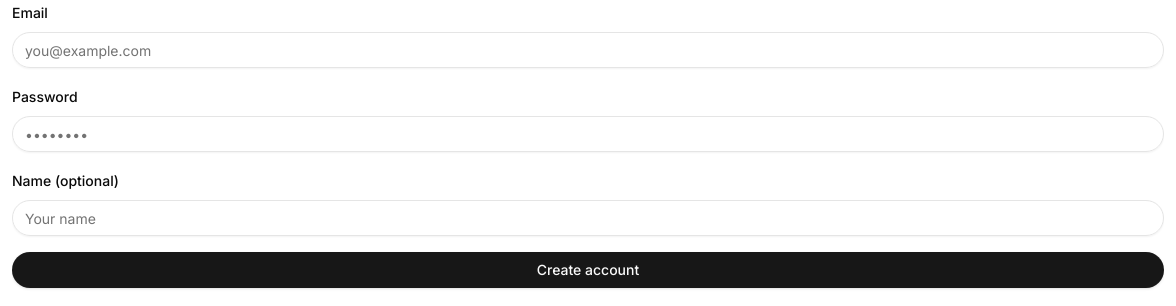
SignupForm › shows loading state during submission
The image size is (1176, 306).
Type "test@example.com" into the field labelled "Email".
click(588, 50); type("test@example.com")  # box left=12, top=32, right=1164, bottom=68
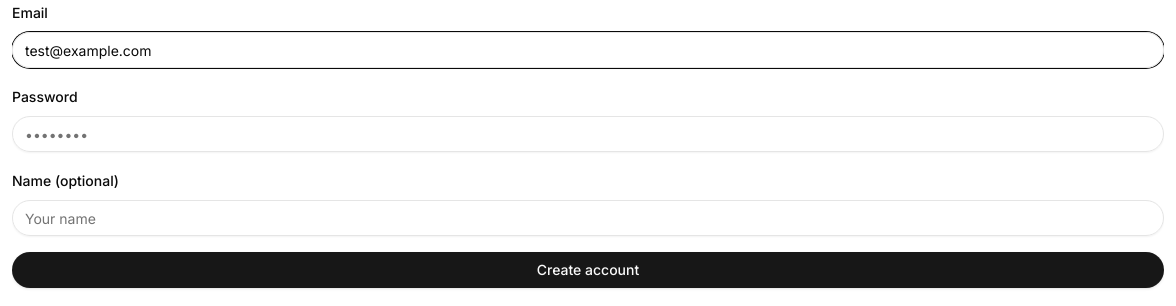
Type "password123" into the password field labelled "Password".
click(588, 134); type("password123")  # box left=12, top=116, right=1164, bottom=152
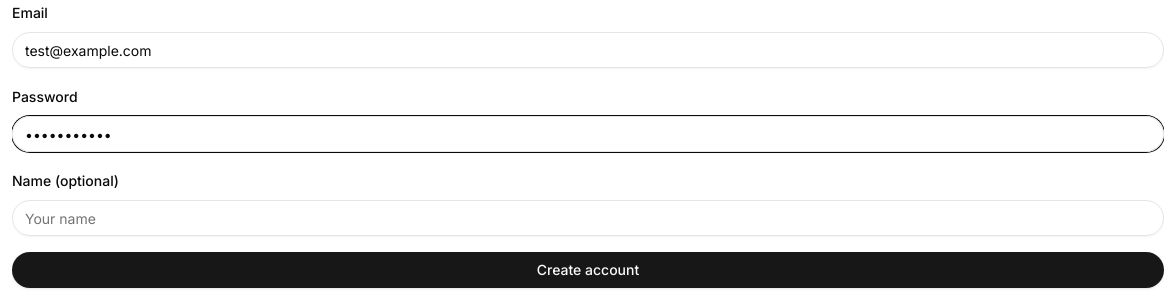
Click the button "Create account".
click(588, 270)  # box left=12, top=252, right=1164, bottom=288
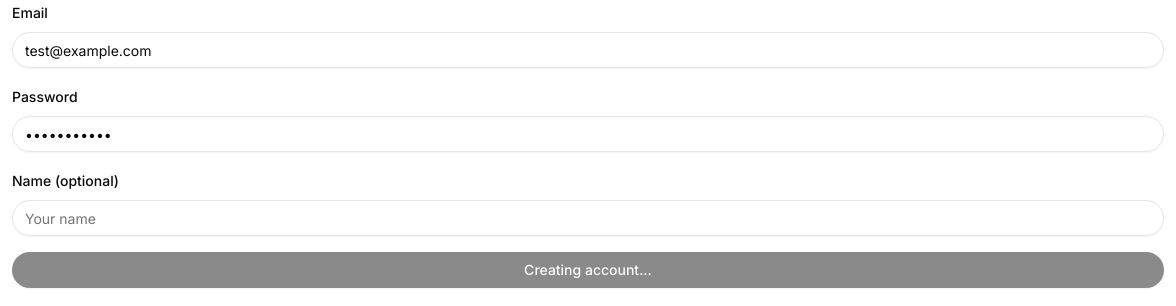
Expected: the button "Creating account..." is disabled, left=12, top=252, right=1164, bottom=288
